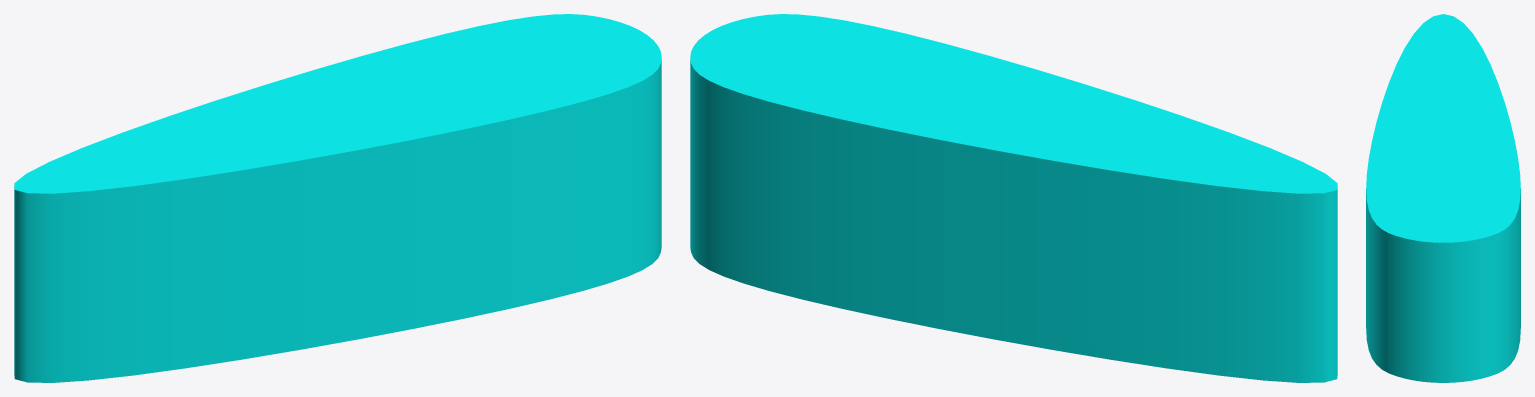
Rendered from flipper_geo.fbx.
3 renders of one model, left to right at view 1: azimuth 30°, elevation 25°; view 2: azimuth 150°, elevation 25°; view 3: azimuth 270°, elevation 25°, orthographic. The views are drawn at different scales.
Parts seen in each view (by area): view 1: flipper_geo; view 2: flipper_geo; view 3: flipper_geo.
Part boxes in pixels (x1,y1,x2,y2): flipper_geo: [14, 14, 661, 382]; flipper_geo: [690, 14, 1337, 382]; flipper_geo: [1366, 14, 1520, 382].
Size of the model in its own units: 350 by 100 by 100.
